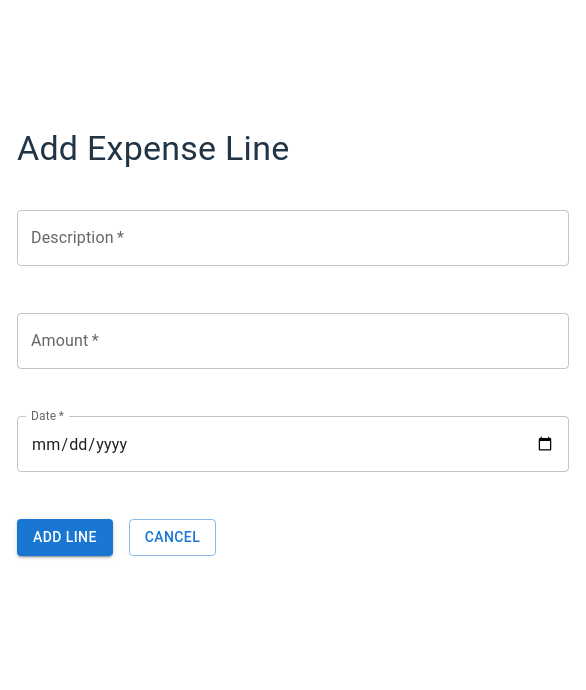
Test: ExpenseLineDetailPage › hides Add Line and Cancel buttons after line creation (attachment section visible)
Type "Hotel stay" into the field labelled "Description *".
click(293, 238); type("Hotel stay")  # box 17,210 -> 569,266
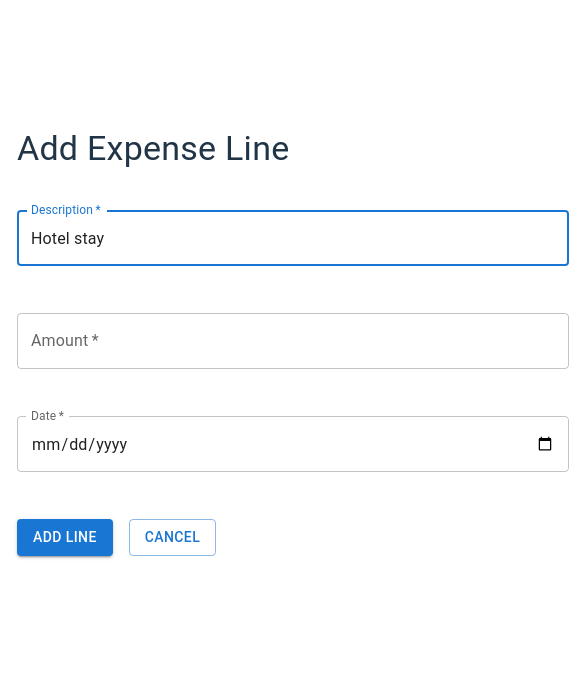
Type "120" into the number field labelled "Amount *".
click(293, 341); type("120")  # box 17,313 -> 569,369
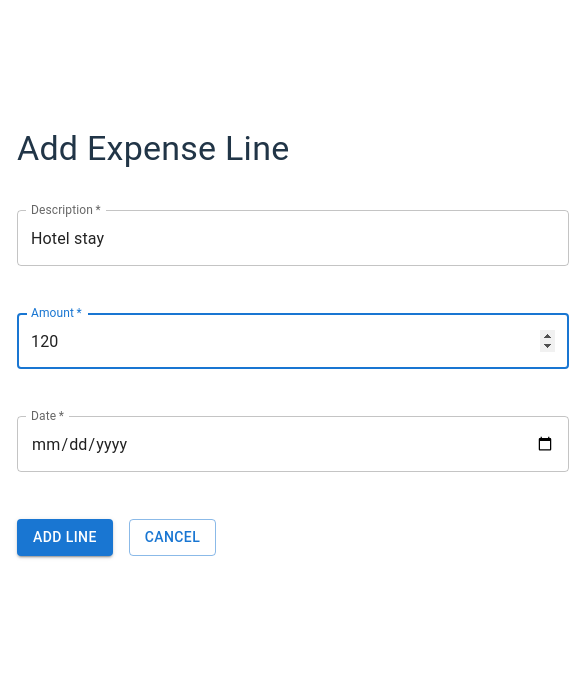
Type "2026-04-10" into the date field labelled "Date *".
click(293, 444); type("2026-04-10")  # box 17,416 -> 569,472
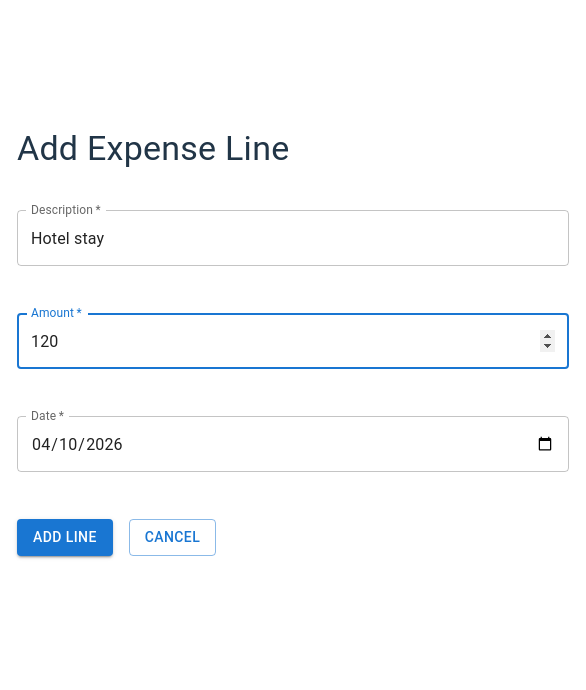
Click the button "Add Line".
click(65, 537)  # box 17,519 -> 113,556
(page scrolled)
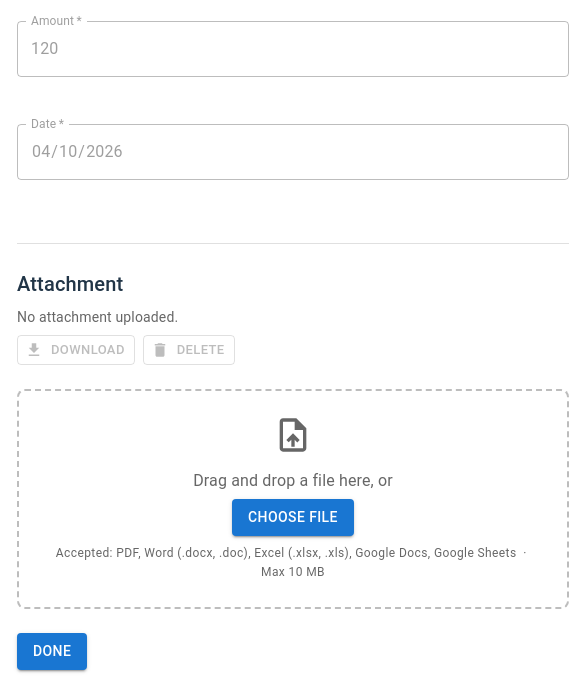
Expected: the element with test id "attachment-section" is shown, 17,243 -> 569,670
Expected: the button "Add Line" is gone
Expected: the button "Cancel" is gone
